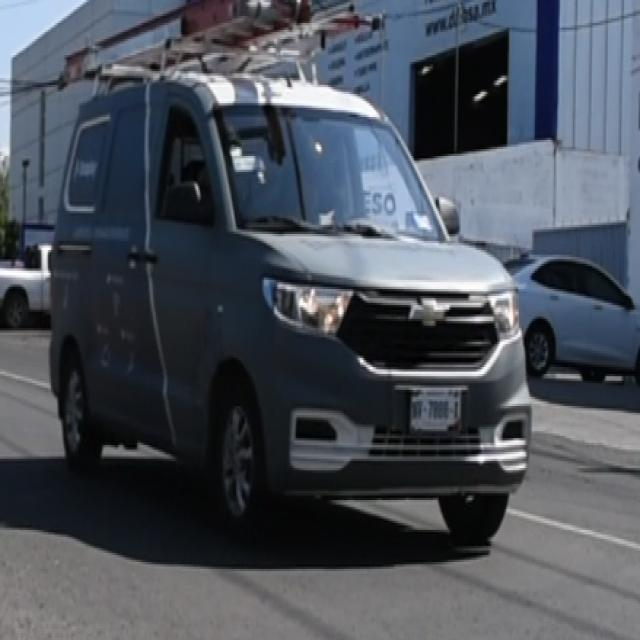placa: (411, 398, 463, 423)
